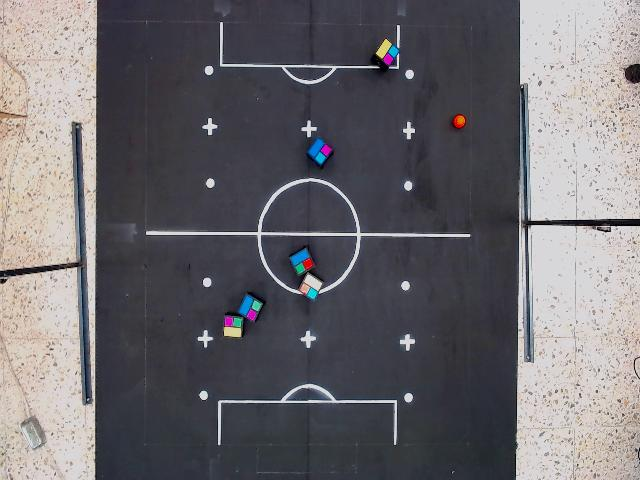robot: (235, 292, 265, 326), (288, 246, 318, 278), (372, 36, 402, 68), (297, 271, 325, 303), (306, 136, 334, 167), (221, 313, 245, 341)
